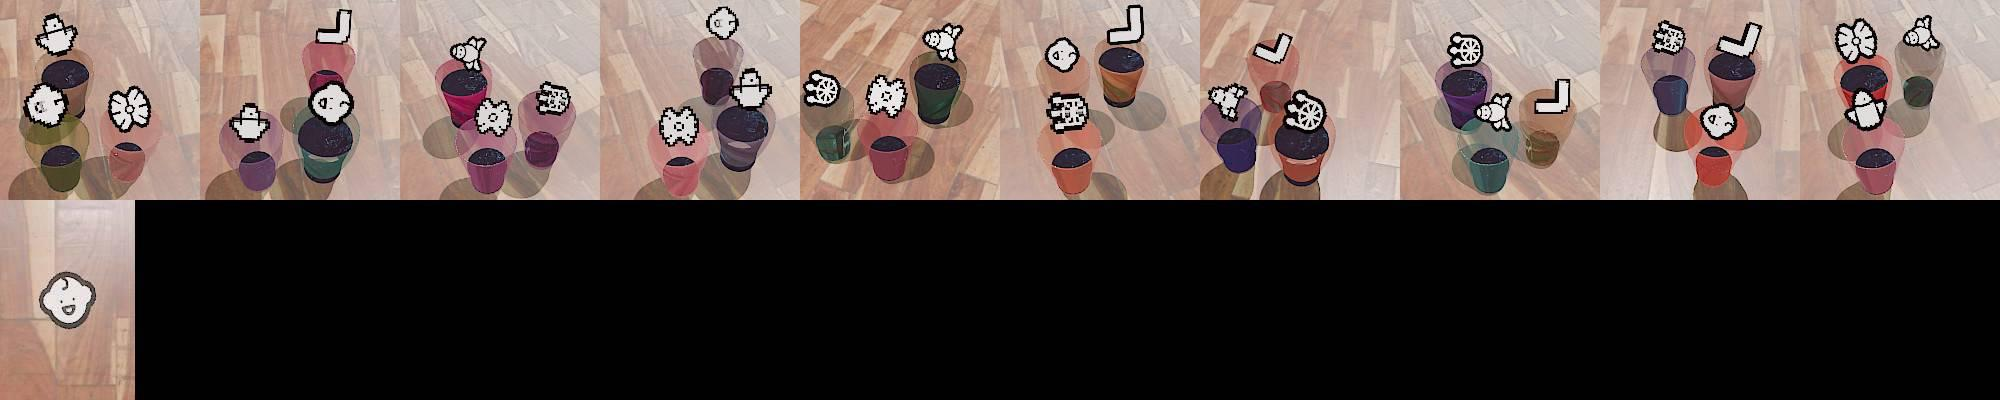icon: (37, 271, 98, 330), (106, 84, 152, 134), (307, 79, 353, 125), (22, 82, 68, 127), (1834, 18, 1879, 64), (865, 73, 908, 118), (1843, 87, 1888, 130), (730, 65, 773, 108), (1283, 88, 1327, 131), (34, 11, 77, 56), (1045, 92, 1089, 131), (1716, 20, 1761, 59), (1105, 4, 1145, 46), (659, 103, 700, 144), (230, 101, 270, 141), (473, 96, 513, 136), (1474, 92, 1513, 131), (1700, 102, 1740, 139), (1532, 78, 1571, 115), (1903, 15, 1940, 52), (314, 8, 351, 45), (1208, 82, 1247, 116), (1253, 31, 1292, 65), (805, 70, 842, 106), (449, 34, 486, 70), (1446, 31, 1483, 66), (1043, 37, 1079, 73), (536, 80, 571, 116), (922, 23, 962, 55), (1652, 20, 1686, 55), (705, 5, 739, 41)
